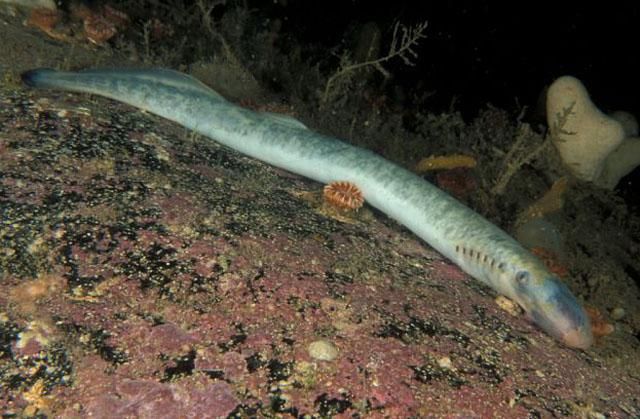Sirip Ekor: (12, 50, 70, 112)
